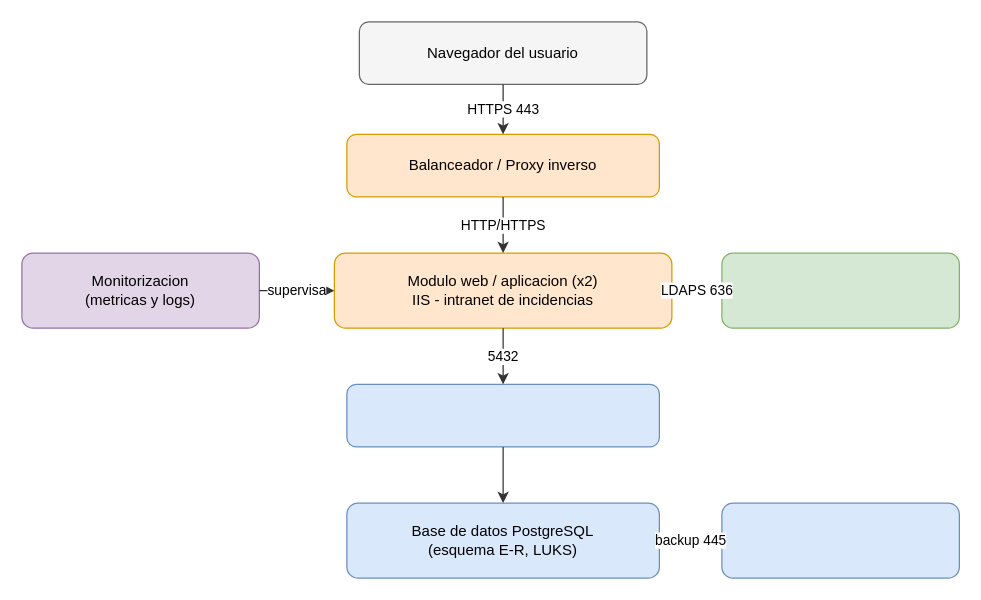
The diagram is 981 pixels wide and 600 high, and some of its shapes have lost their labels. The box of each missing label's shape, as (x1, y1, x2, y2) in pixels:
Acceso a datos (HAProxy (BD)): (346, 383, 659, 447)
Copias 3-2-1 + cifrado AES-256: (721, 502, 959, 578)
Modulo de autenticacion FreeIPA (LDAP/DNS): (721, 252, 959, 328)
